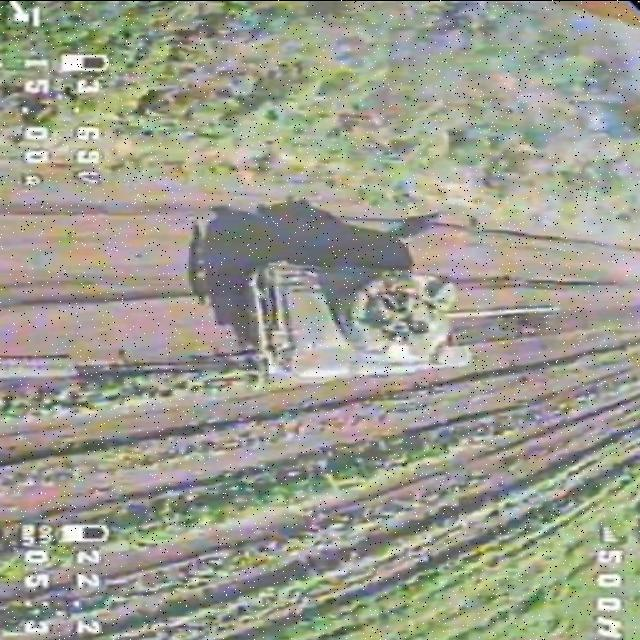TANK: (240, 258, 564, 382)
